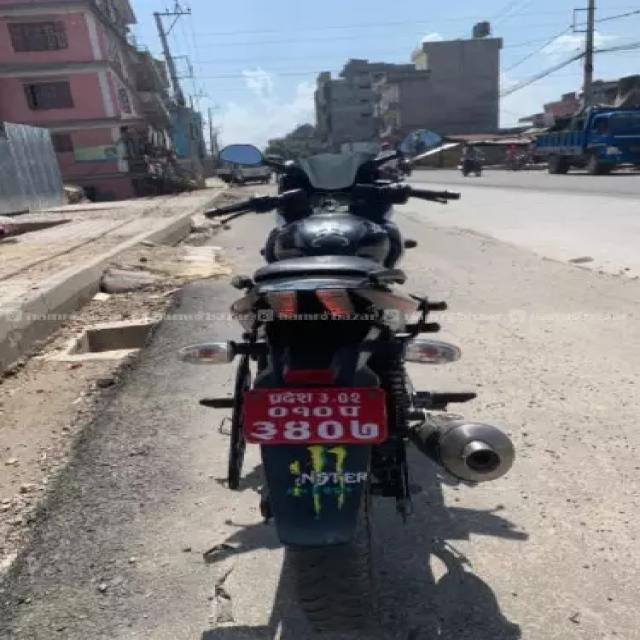License-plate: (234, 388, 397, 446)
